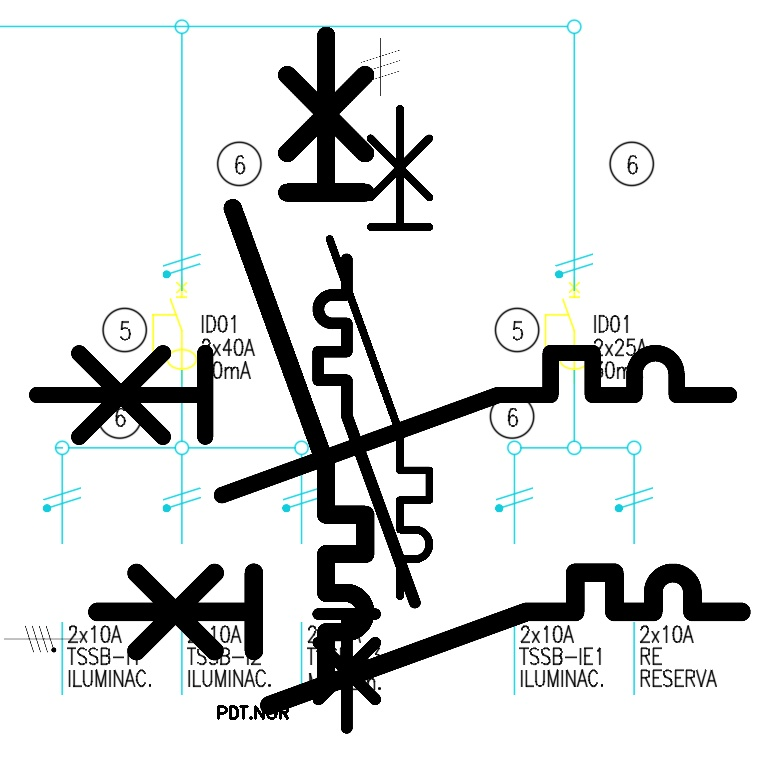interruptor_termomagnetico: (19, 335, 747, 513), (216, 19, 382, 698), (80, 556, 757, 722), (317, 96, 442, 609), (306, 247, 426, 740)
